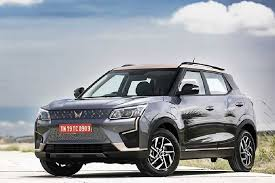XUV 400: (31, 59, 259, 179)
